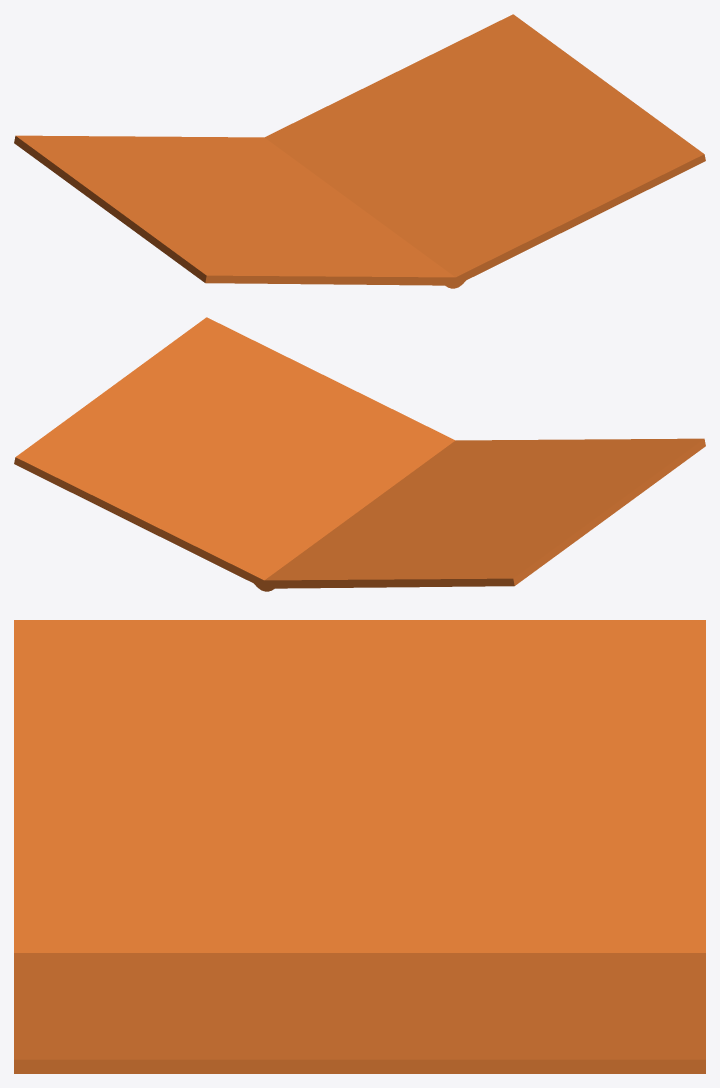
The model's file is book.fbx.
3 views of the same model, one above another, from view 1: azimuth 30°, elevation 25°; view 2: azimuth 150°, elevation 25°; view 3: azimuth 270°, elevation 25° (orthographic). The views are drawn at different scales.
Parts seen in each view (by area): view 1: Cube.001; view 2: Cube.001; view 3: Cube.001.
Boxes of the visible parts, bbox=[...] form: Cube.001: bbox=[14, 14, 705, 288]; Cube.001: bbox=[14, 317, 705, 591]; Cube.001: bbox=[14, 620, 705, 1073].
Size of the model in its own units: 1.51 by 0.2121 by 1.
